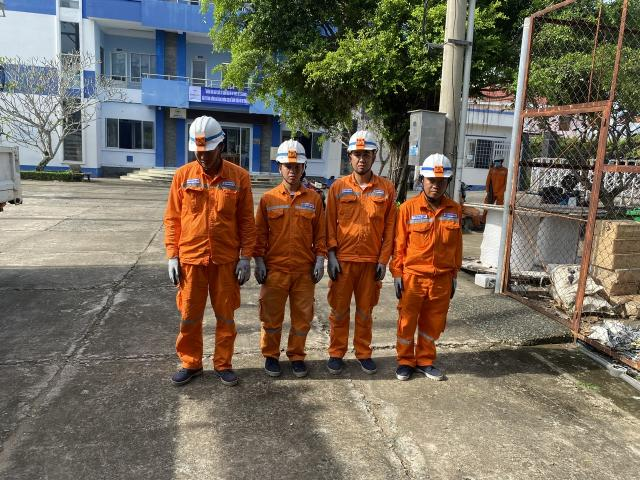gloves: (158, 254, 186, 289), (324, 250, 343, 280), (235, 257, 254, 285), (252, 257, 271, 285), (309, 257, 325, 283), (393, 274, 405, 302), (448, 278, 460, 300), (374, 262, 387, 281)
helmet: (187, 99, 230, 158), (264, 128, 318, 169), (344, 125, 385, 157), (421, 151, 453, 180), (494, 153, 506, 163)
shoes: (173, 364, 209, 387), (415, 359, 446, 383), (285, 356, 312, 379), (214, 362, 239, 386), (261, 353, 285, 378), (357, 351, 379, 376), (325, 349, 344, 376), (395, 357, 414, 384)
